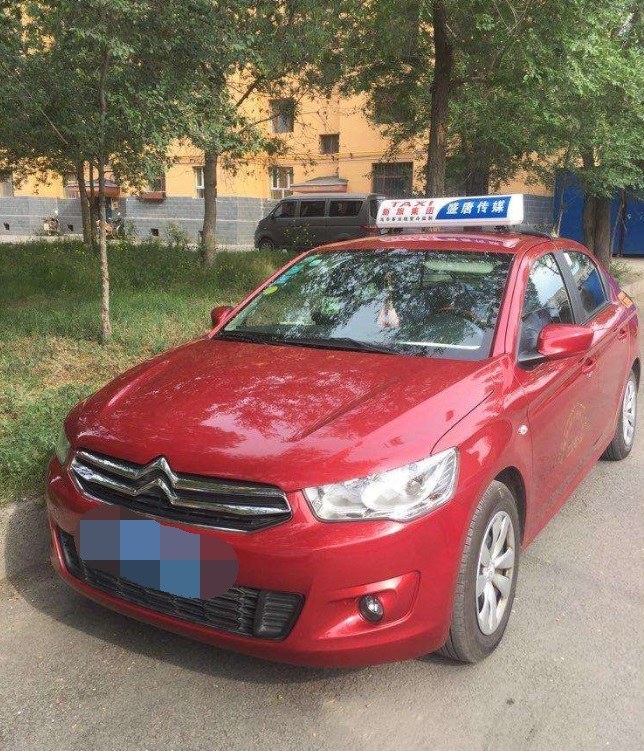taxi: (35, 190, 644, 667)
